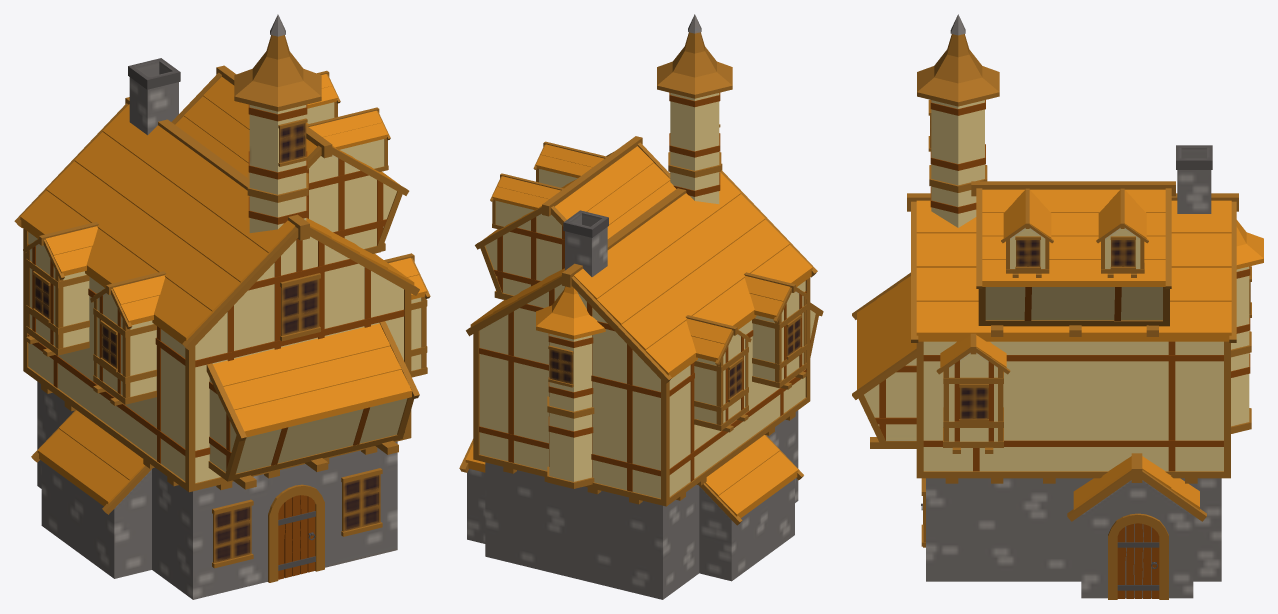
The model's file is kit-inn.glb.
The picture shows the model from 3 angles, left to right: view 1: azimuth 30°, elevation 25°; view 2: azimuth 150°, elevation 25°; view 3: azimuth 270°, elevation 25°; orthographic projection. The views are drawn at different scales.
Parts seen in each view (by area): view 1: Cube.778; view 2: Cube.778; view 3: Cube.778.
Boxes of the visible parts, left/top/right/bottom form: Cube.778: left=14, top=14, right=430, bottom=599; Cube.778: left=459, top=14, right=823, bottom=599; Cube.778: left=852, top=14, right=1263, bottom=599.
Bounding box in the file's own units: 6.5 × 11.52 × 8.26.
Materials: 1 (1 with a texture image).
